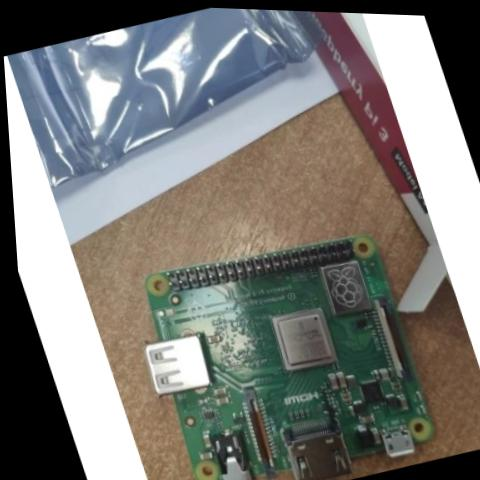Raspberry-Pi-3-Model-A-: (99, 199, 454, 480)
